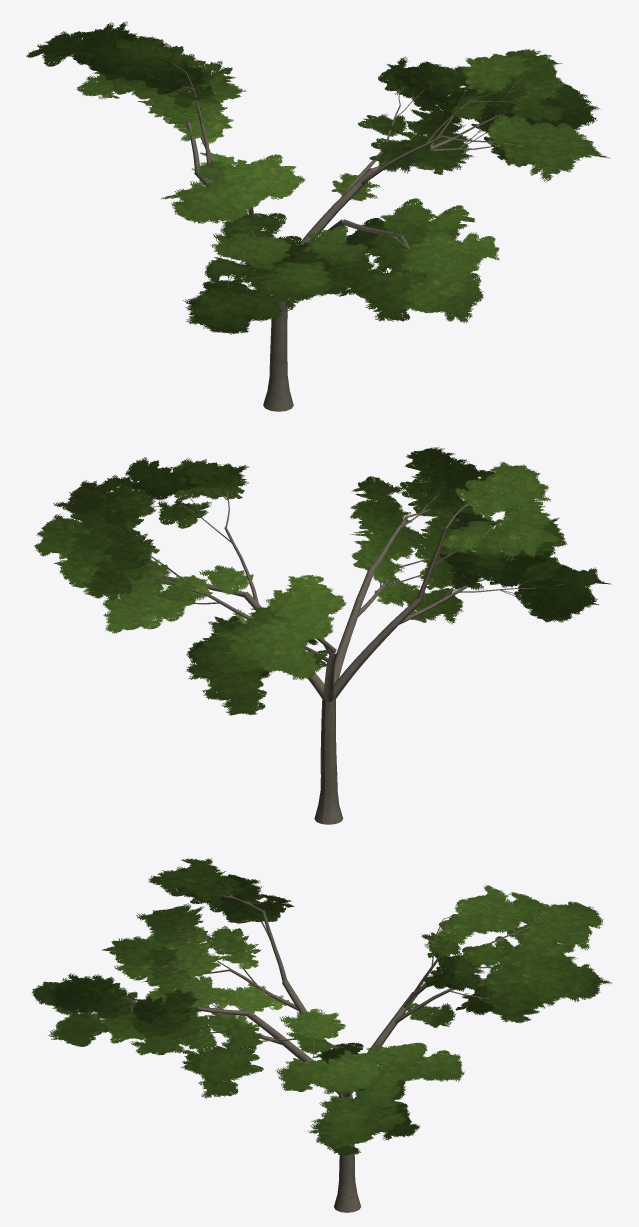
The model's file is albizia-schimperiana-lod0.glb.
3 renders of one model, top to bottom at view 1: azimuth 30°, elevation 25°; view 2: azimuth 150°, elevation 25°; view 3: azimuth 270°, elevation 25°, orthographic. The views are drawn at different scales.
Visible parts, largest first — view 1: albizia_foliage, albizia_bark; view 2: albizia_foliage, albizia_bark; view 3: albizia_foliage, albizia_bark.
Part boxes in pixels (left/top/right/bottom): albizia_foliage: left=26, top=21, right=610, bottom=334; albizia_bark: left=74, top=52, right=556, bottom=411; albizia_foliage: left=34, top=447, right=611, bottom=715; albizia_bark: left=63, top=466, right=565, bottom=824; albizia_foliage: left=31, top=858, right=611, bottom=1156; albizia_bark: left=88, top=884, right=547, bottom=1212.
Size of the model in its own units: 24.78 by 14.79 by 27.58.
Materials: 2 (2 with a texture image).
